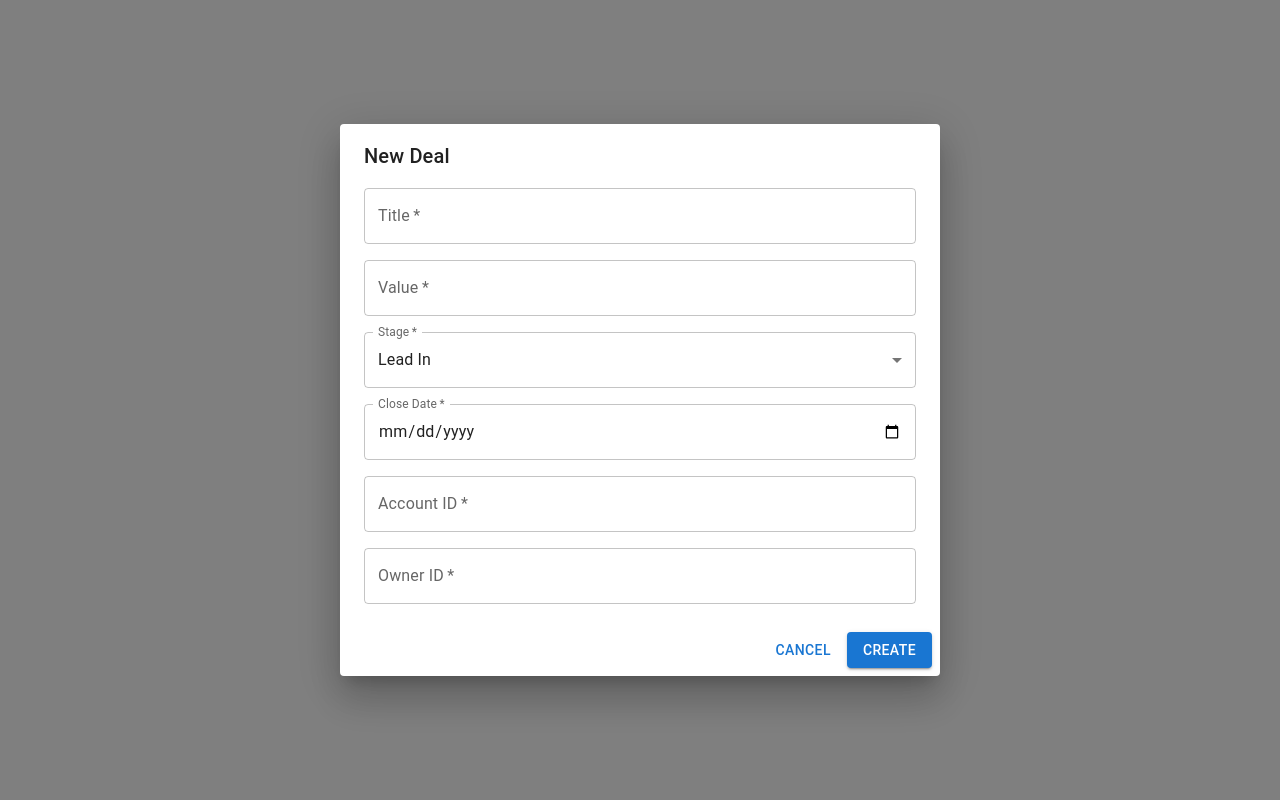
DealForm › shows validation errors on empty submit
Click the button "Create": (889,650) [847,632,932,668]
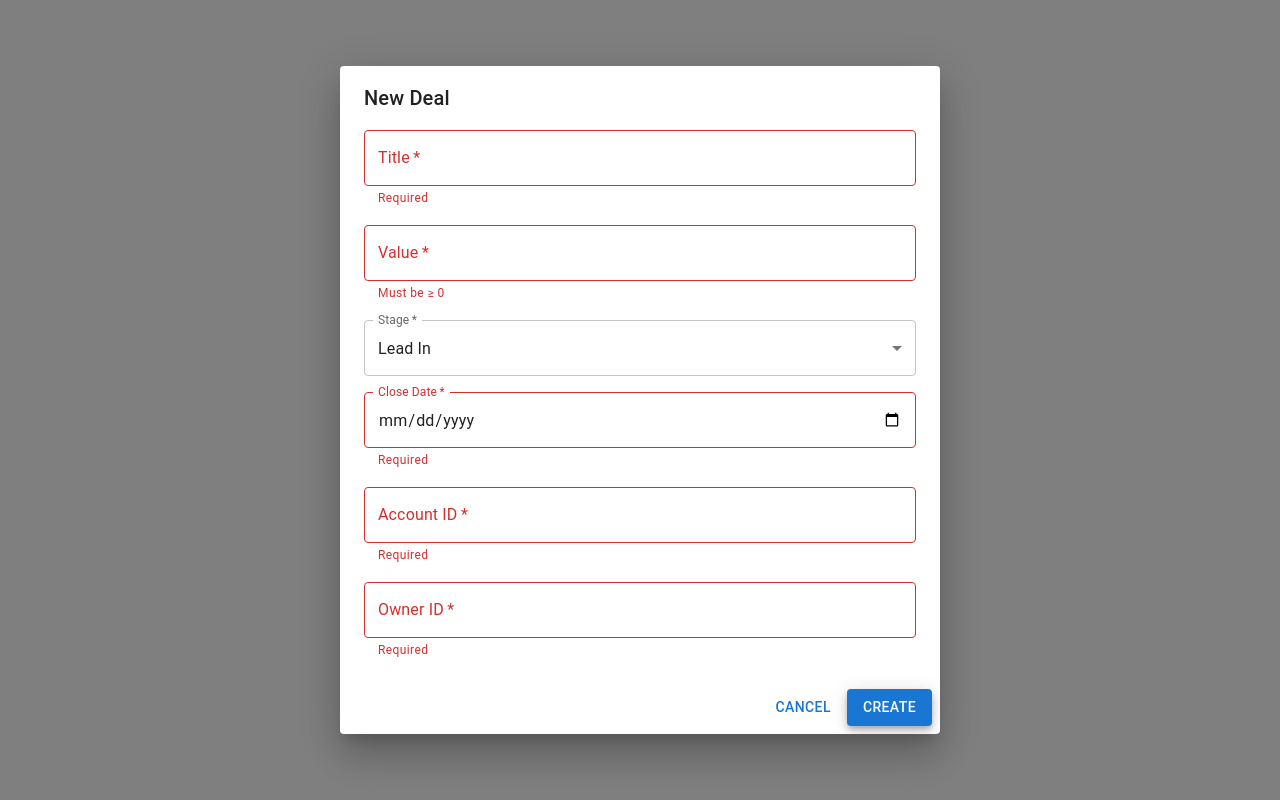
Expected: the text "Required" below "Title" is shown, [378,192,428,206]
